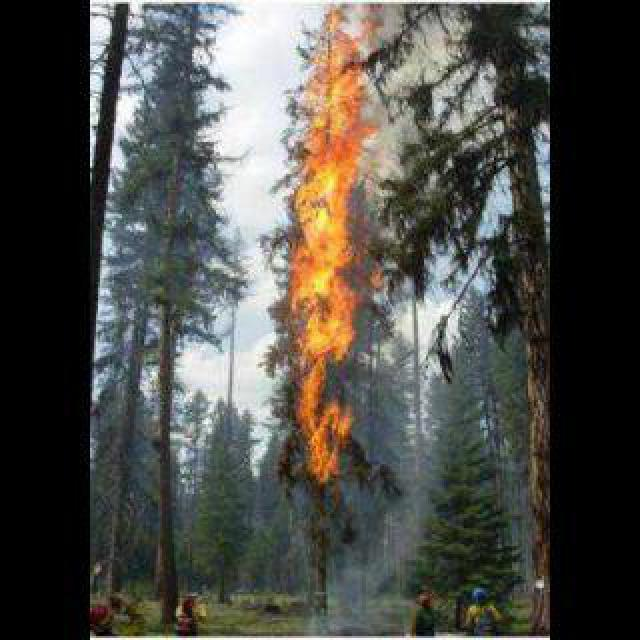fire: (290, 500, 450, 639)
smoke: (284, 46, 378, 486)
